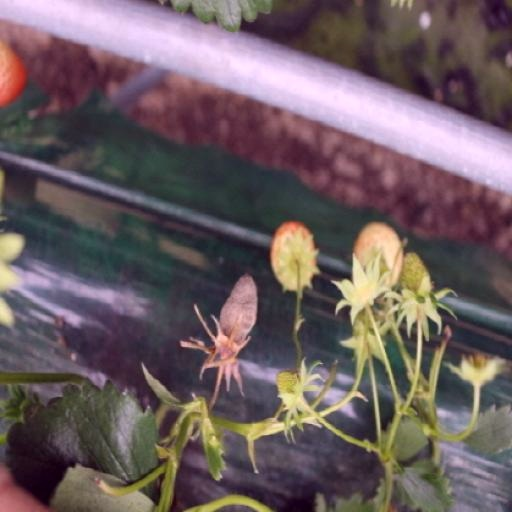Gray Mold: (181, 118, 259, 240)
